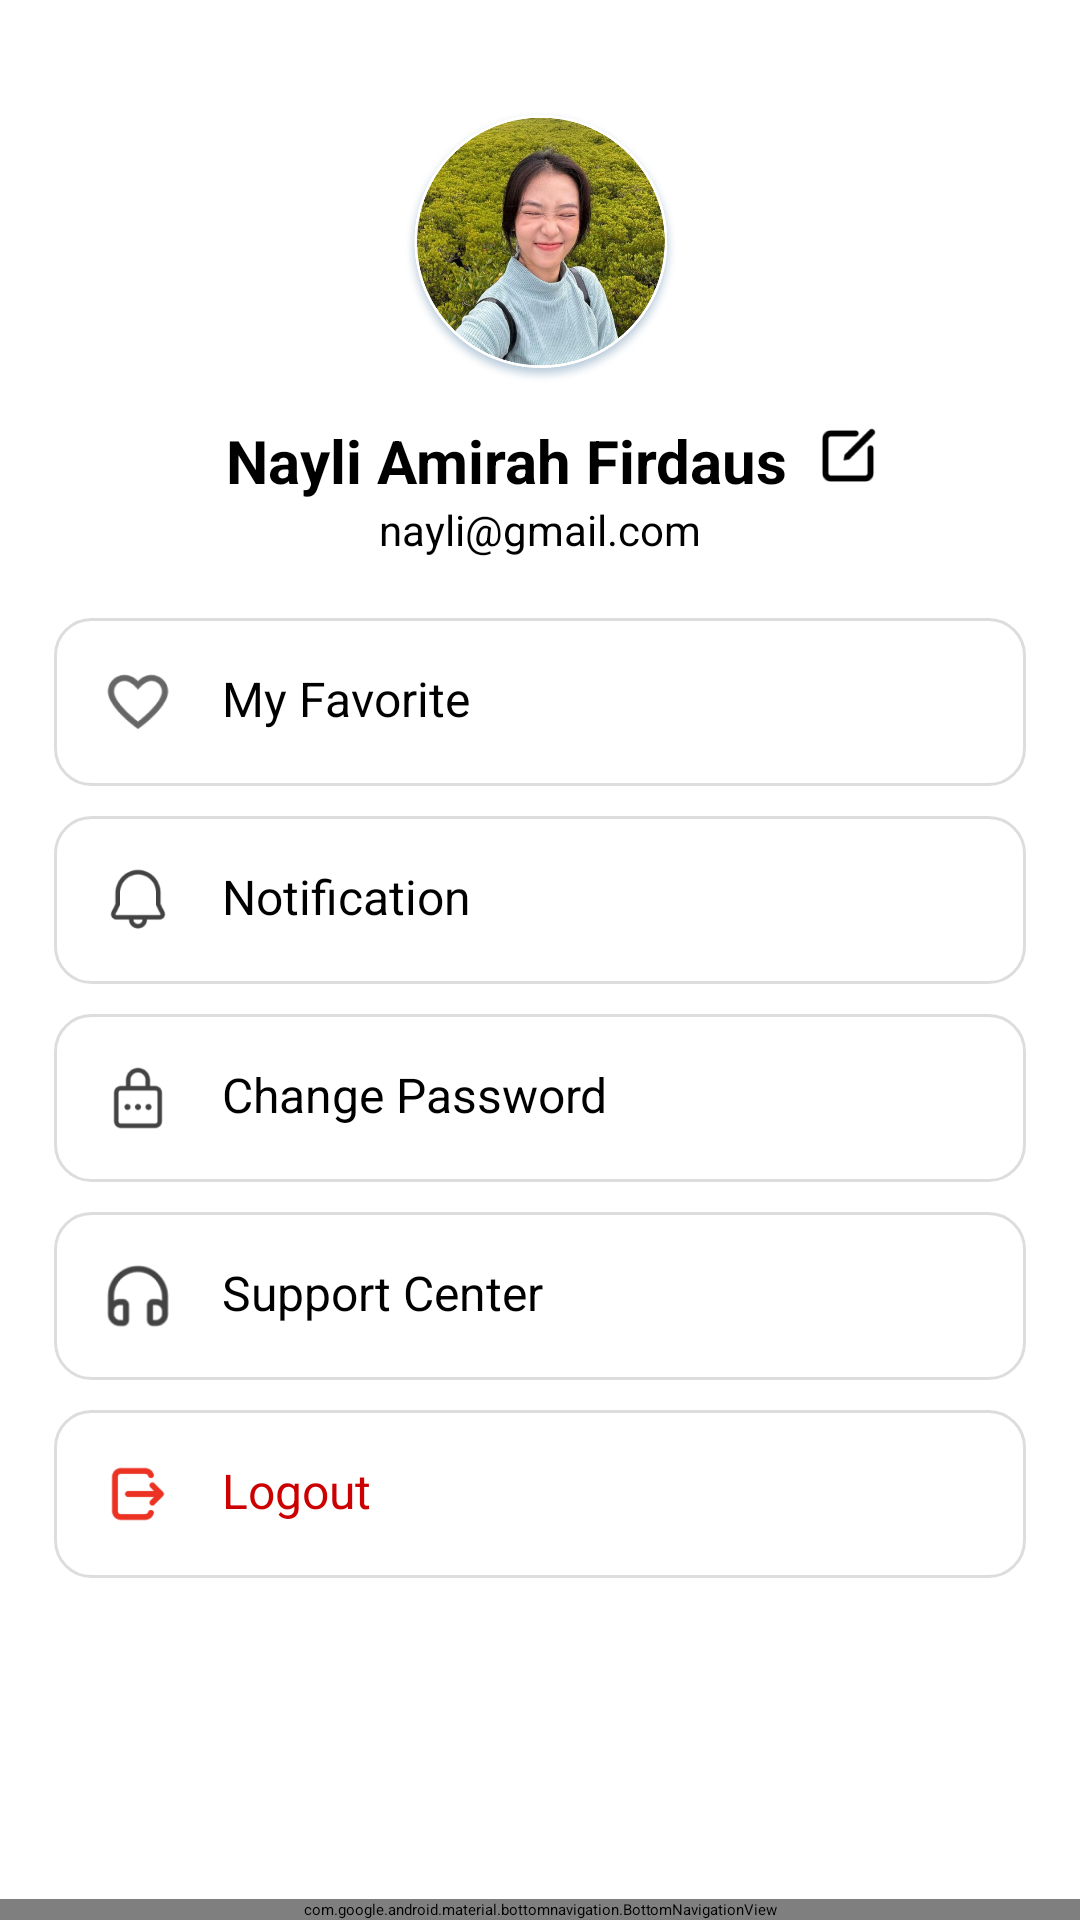

Point at icon controls on the screen. Image size 1080*1920, points as (x=x, y=y).
edit: (x=849, y=455)
